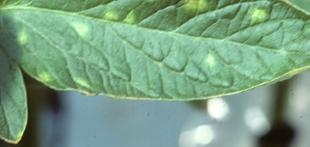Tomato mold leaf: (0, 0, 310, 141)
